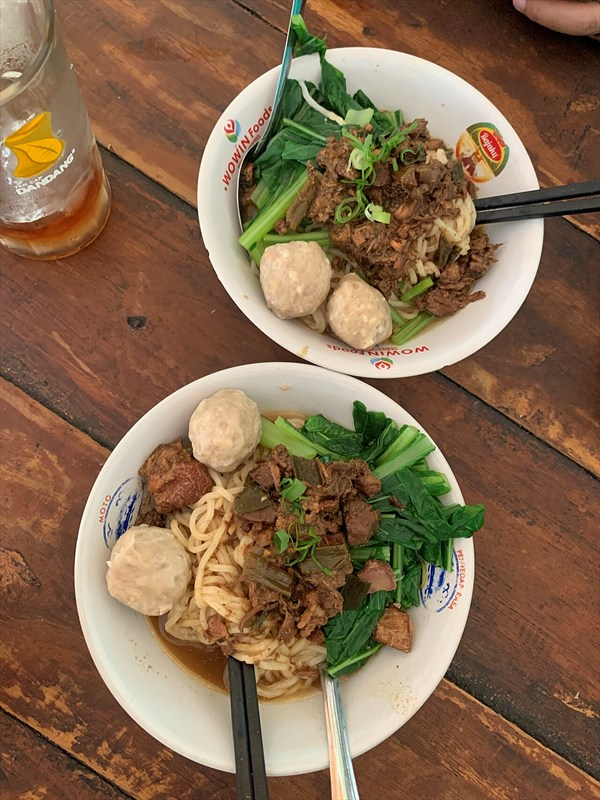Bakso: (80, 45, 524, 761)
